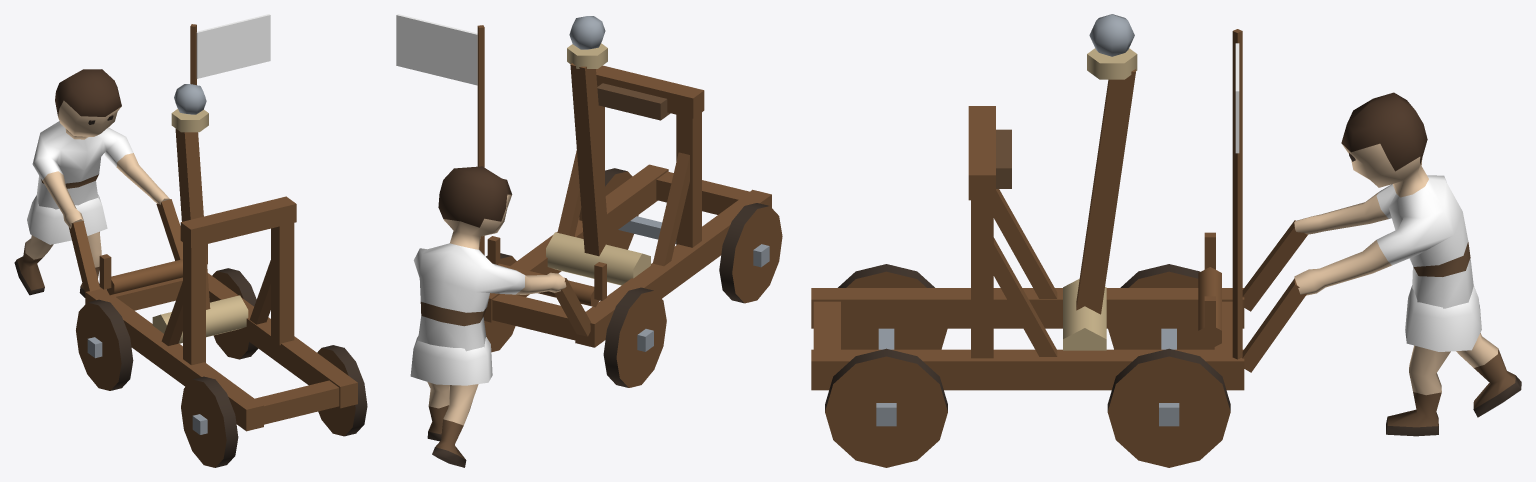
File: siege.glb
3 renders of one model, left to right at view 1: azimuth 30°, elevation 25°; view 2: azimuth 150°, elevation 25°; view 3: azimuth 270°, elevation 25°, orthographic. The views are drawn at different scales.
Visible parts, largest first — view 1: siege; view 2: siege; view 3: siege.
Boxes of the visible parts, <box> form: siege: <box>14,14,367,467</box>; siege: <box>396,14,782,467</box>; siege: <box>811,14,1521,467</box>.
Bounding box in the file's own units: 1.39 × 2.07 × 3.12.
